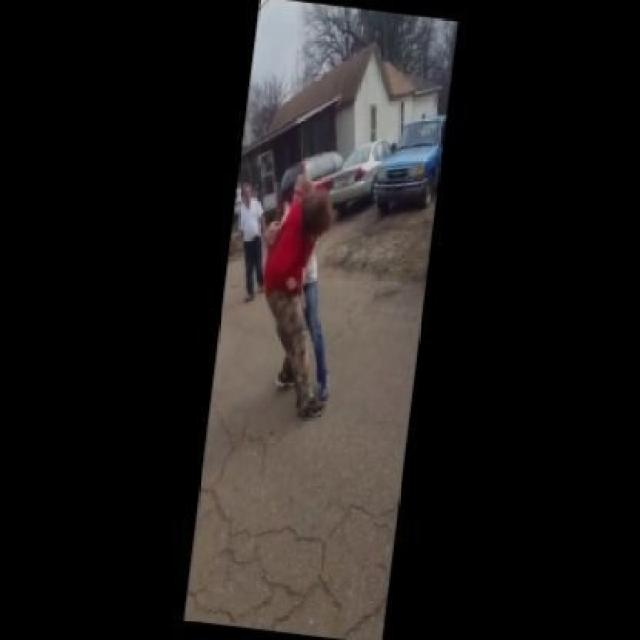fight: (257, 166, 339, 425)
non-fight: (229, 178, 273, 303)
